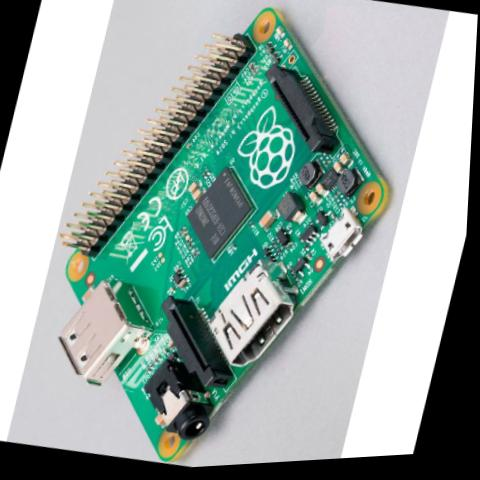Raspberry-Pi-1-Model-A-: (8, 0, 445, 479)
